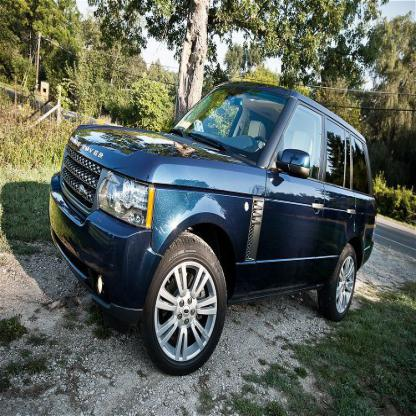Vehicle: (46, 79, 380, 376)
